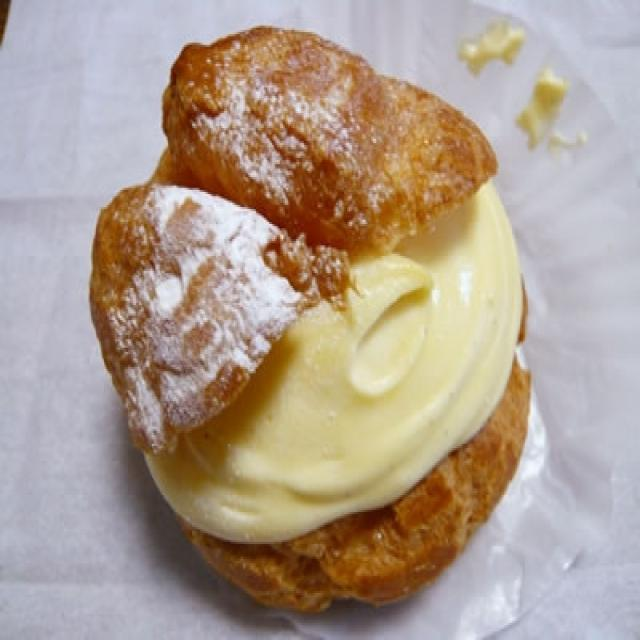炸货点心: (67, 15, 541, 621)
蛋糕甜品: (67, 15, 541, 621)
